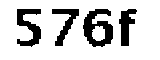5: (14, 6, 49, 51)
6: (82, 6, 116, 50)
7: (50, 6, 80, 52)
f: (119, 6, 143, 53)
